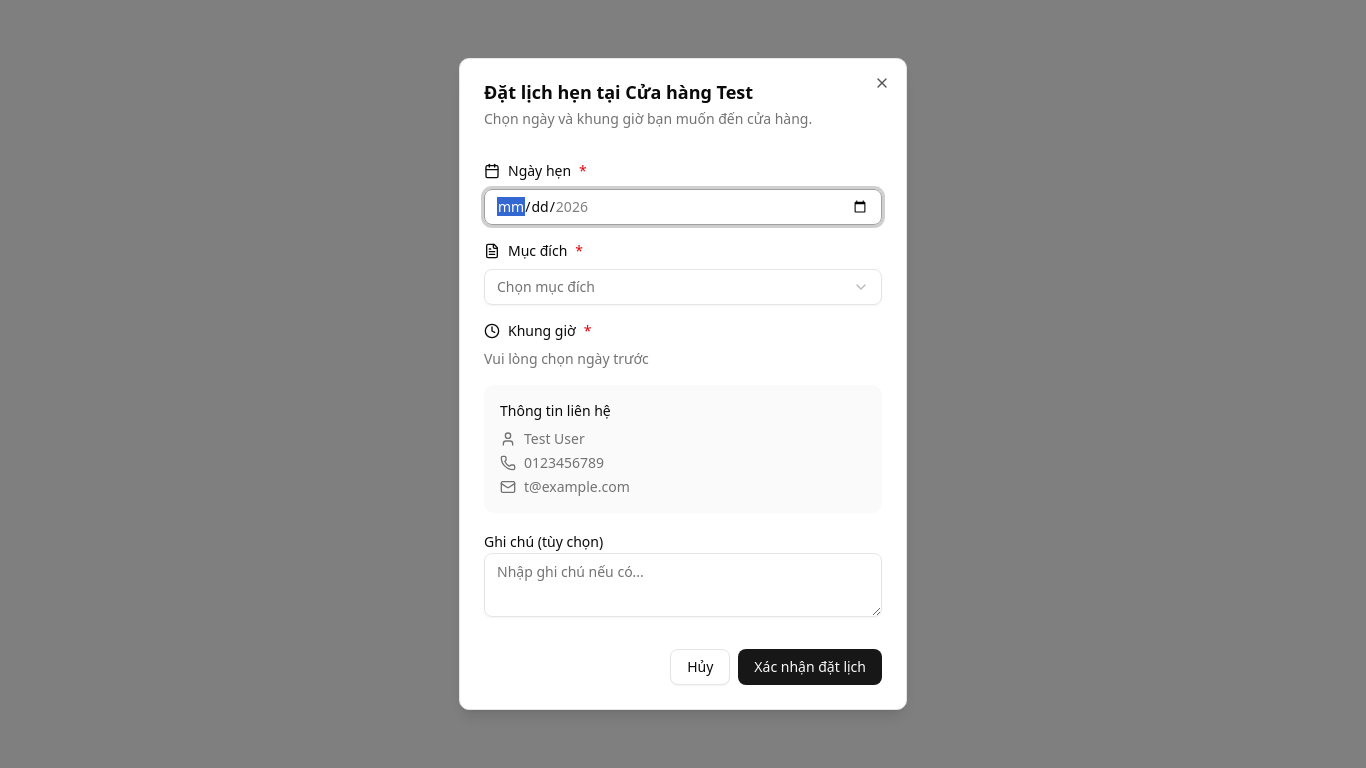
Preserved Wave 4A behavior › does not fetch slots until a purpose is selected
Type "2099-12-25" into the date field labelled "Ngày hẹn *" at (683, 207), box [484,189,882,225]
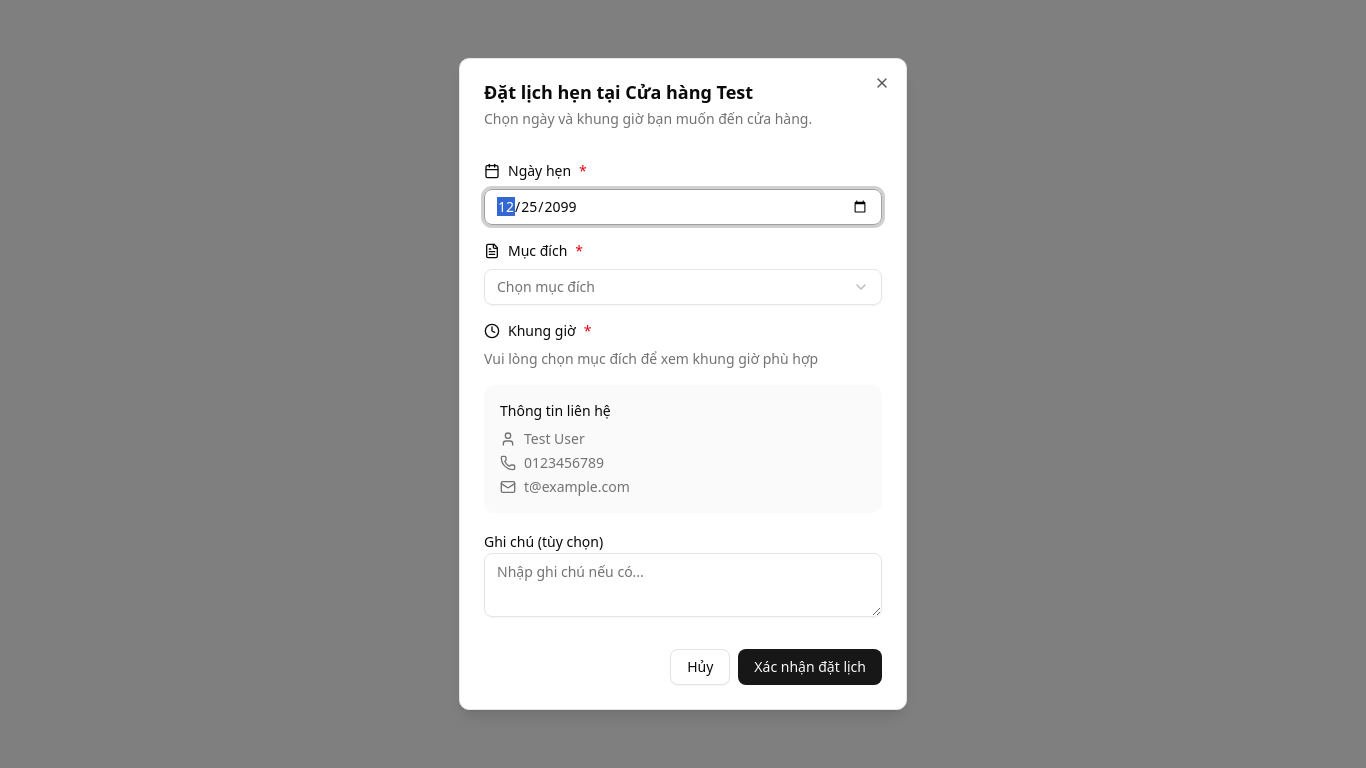
Now the text "Vui lòng chọn mục đích để xem khung giờ phù hợp" is shown, box [484,349,818,368]
